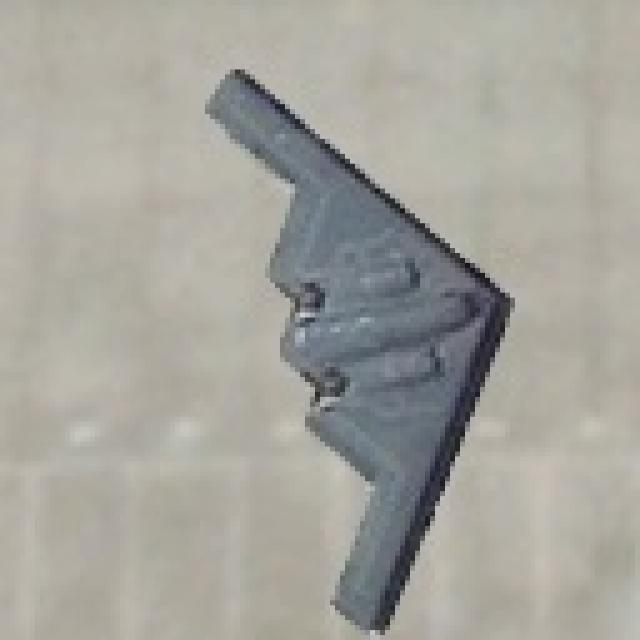B-2_TopDown: (200, 60, 515, 635)
